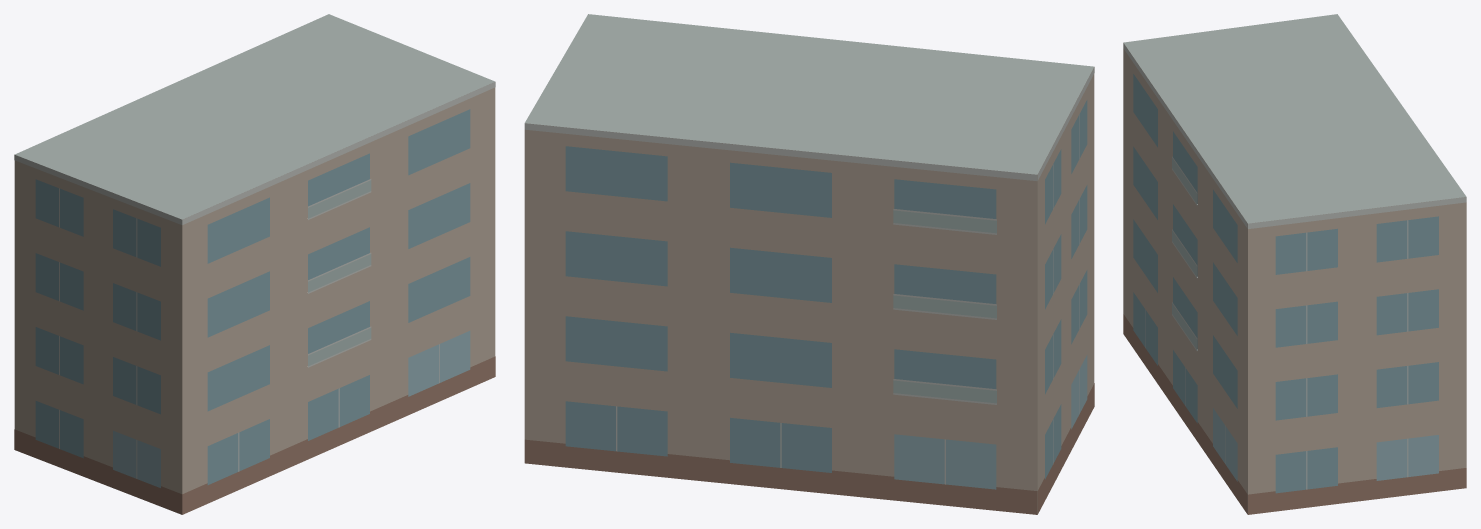
The model's file is survey-upis-32661385.glb.
3 renders of one model, left to right at view 1: azimuth 30°, elevation 25°; view 2: azimuth 150°, elevation 25°; view 3: azimuth 270°, elevation 25°, orthographic. The views are drawn at different scales.
Parts seen in each view (by area): view 1: survey-upis-32661385.tmp; view 2: survey-upis-32661385.tmp; view 3: survey-upis-32661385.tmp.
Boxes of the visible parts, left/top/right/bottom form: survey-upis-32661385.tmp: left=14, top=14, right=495, bottom=514; survey-upis-32661385.tmp: left=524, top=14, right=1094, bottom=514; survey-upis-32661385.tmp: left=1123, top=14, right=1466, bottom=514.
Bounding box in the file's own units: 19.77 × 12.8 × 13.69.
